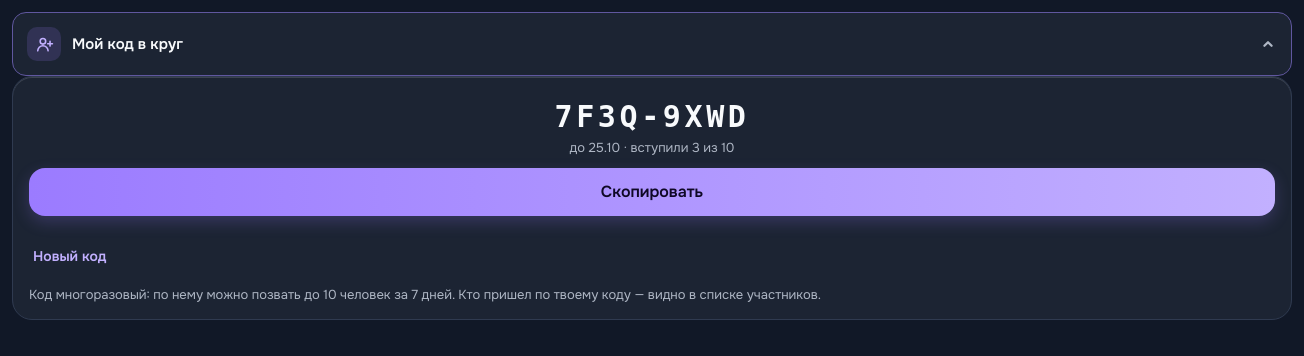
Test: CircleCode › «Новый код» — с подтверждением, старый сразу гаснет
The image size is (1304, 356).
Click the button "Новый код" at [70, 256], box 29,234 -> 110,278
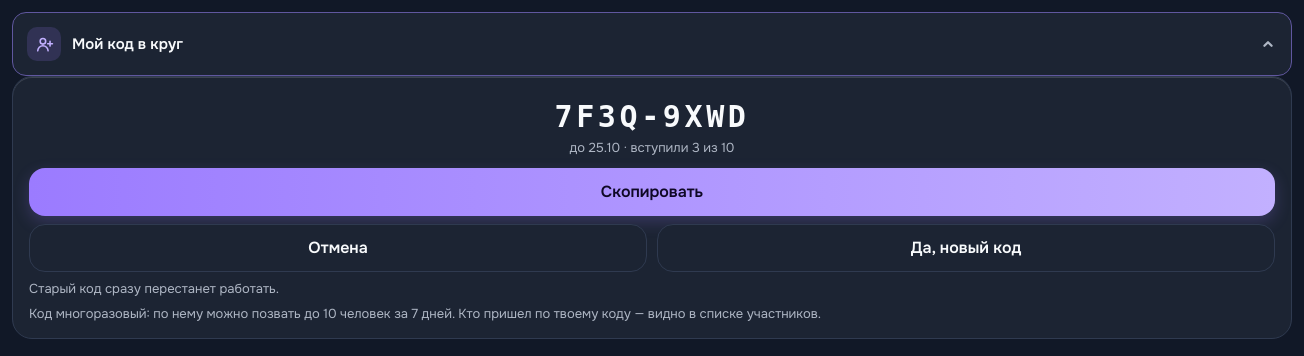
Result: the text "Старый код сразу перестанет работать." is shown at 29,280 -> 279,297
Click the button "Отмена" at [338, 248], box 29,224 -> 647,272
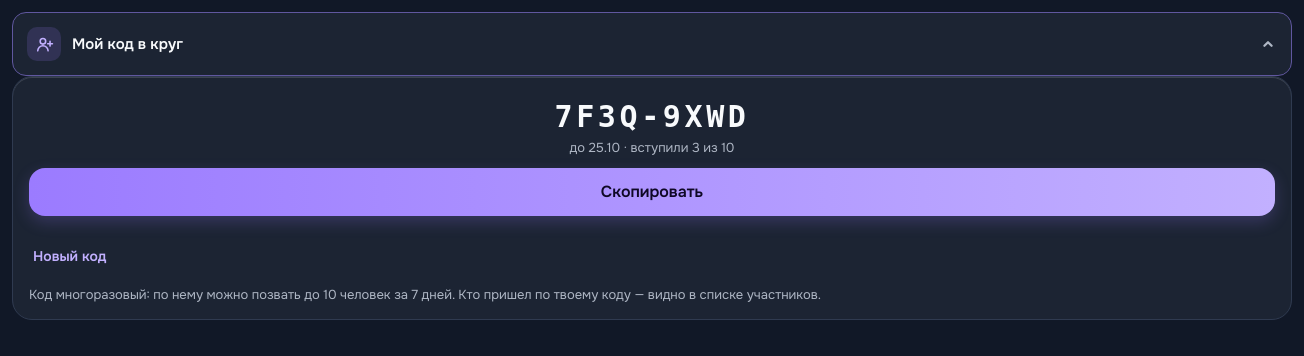
Click the button "Новый код" at [70, 256], box 29,234 -> 110,278
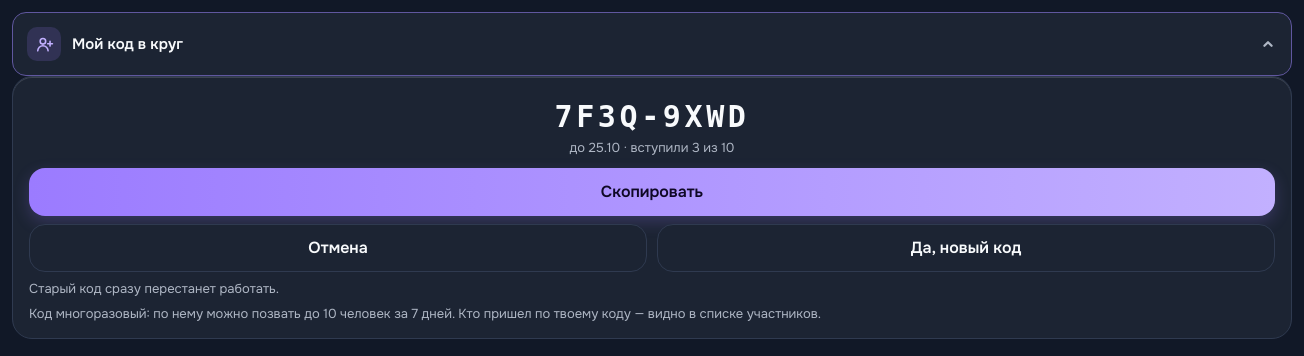
Click the button "Да, новый код" at [966, 248], box 657,224 -> 1275,272
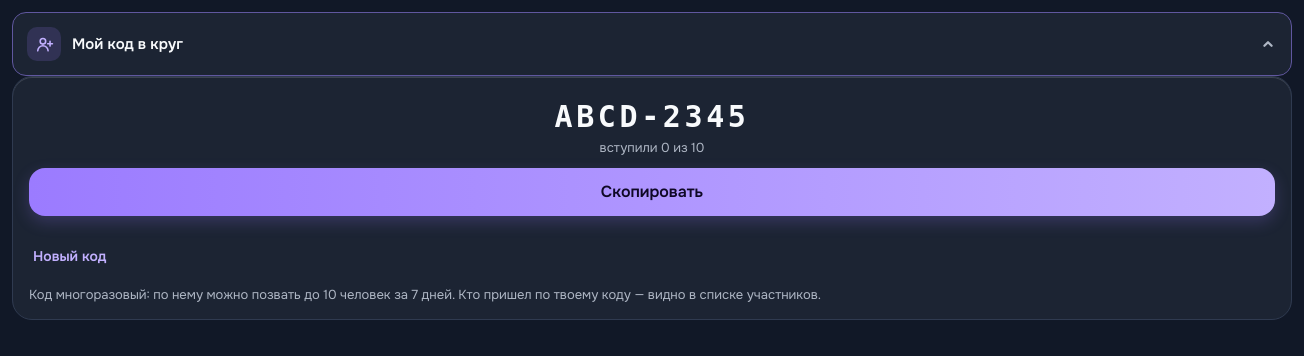
Result: the button with test id "fc-code" reads "ABCD-2345" at 554,99 -> 750,134
